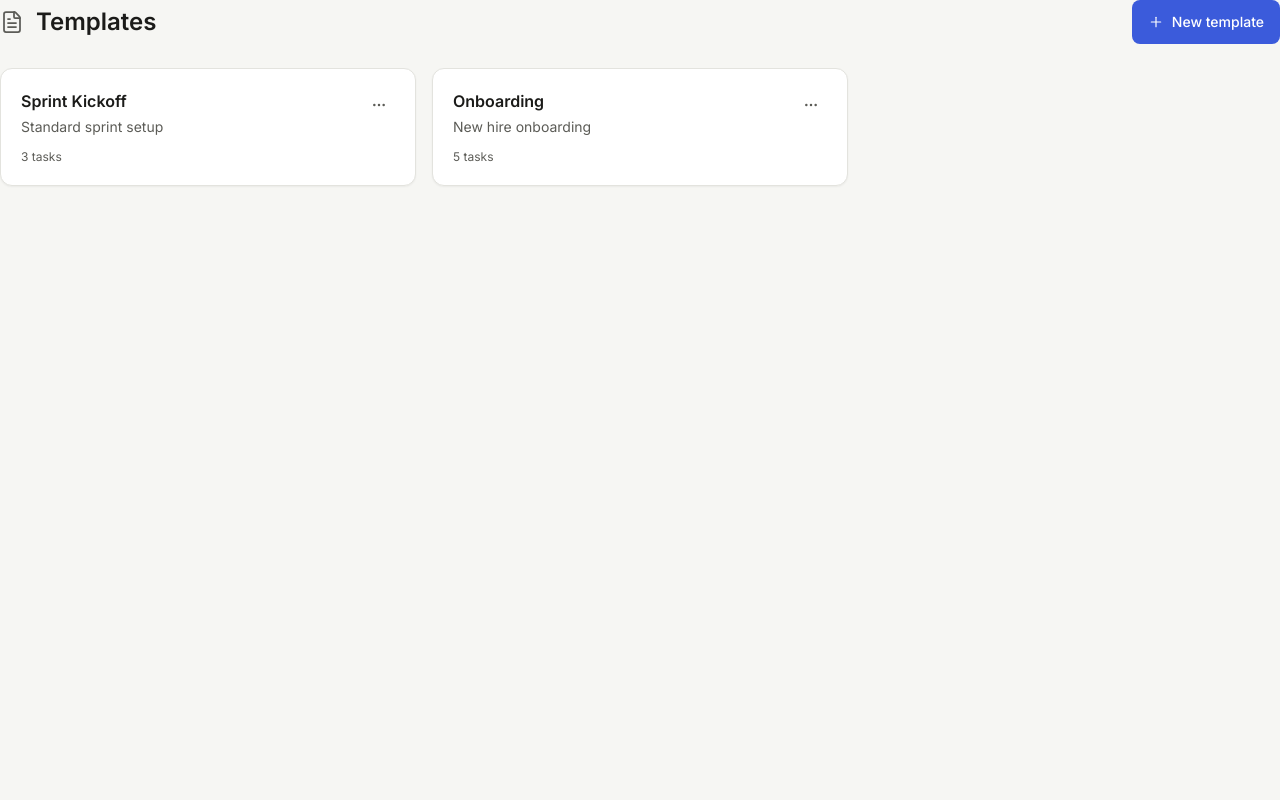
TemplatesPage › shows edit dialog via actions menu
// Open the dropdown for first template
Click the button named "actions for sprint kickoff": {"x": 379, "y": 105} [363,89,395,121]
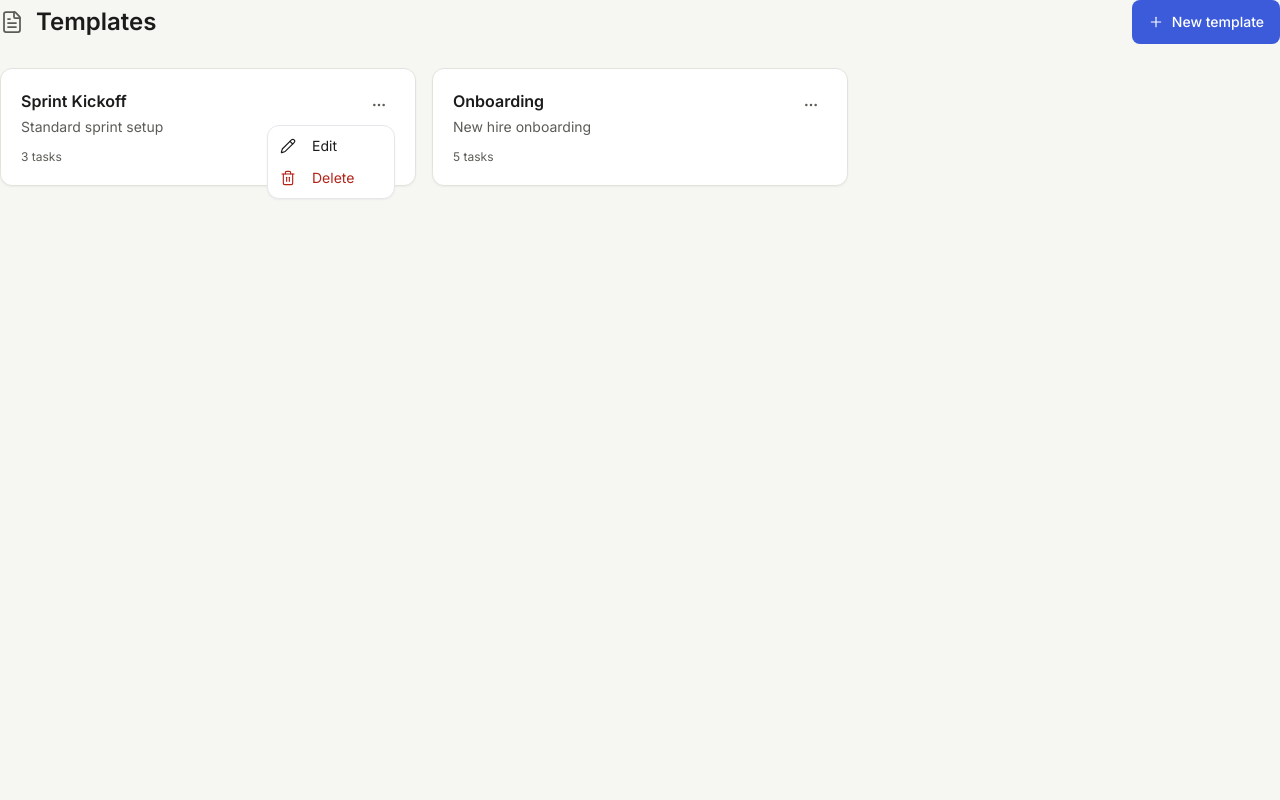
Click the menu item "Edit": {"x": 288, "y": 146} [280,137,337,154]
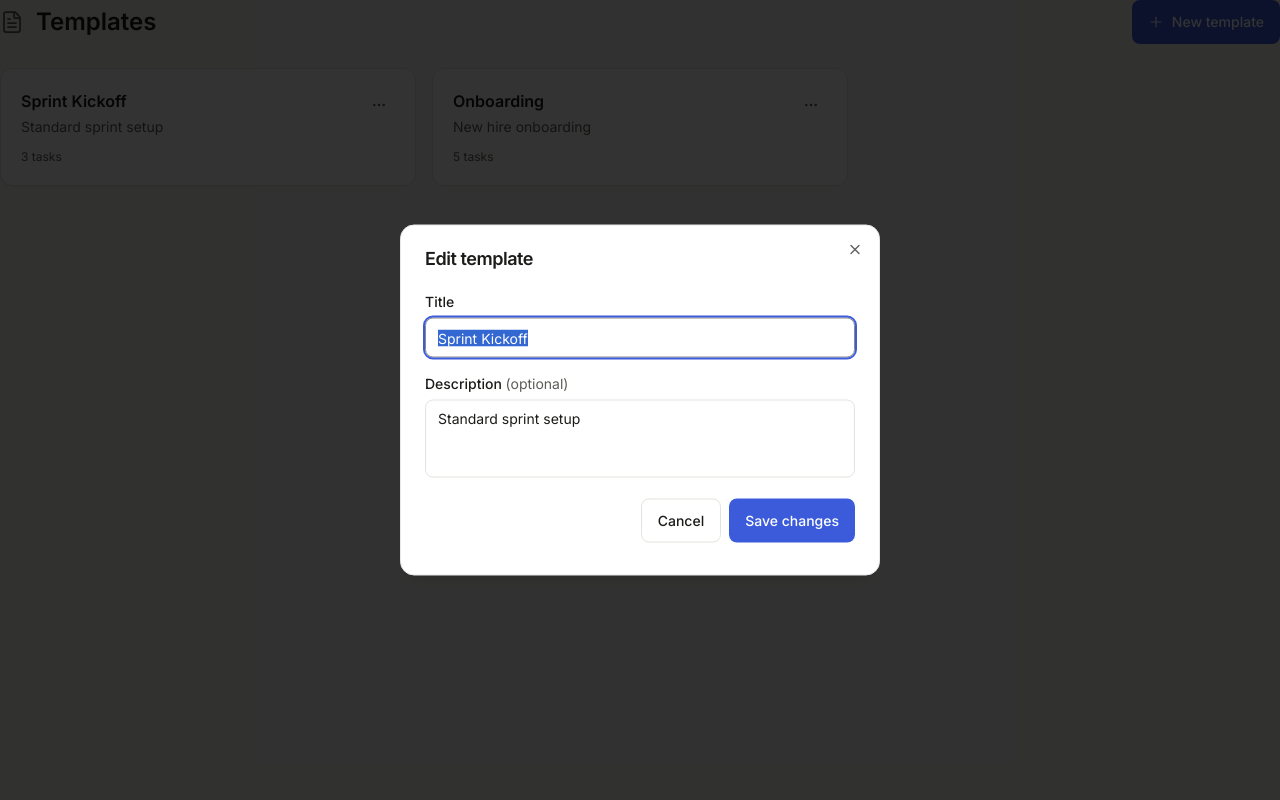
Result: the dialog is shown at [400,224,880,576]
Result: the heading "Edit template" is shown at [425,248,533,268]
